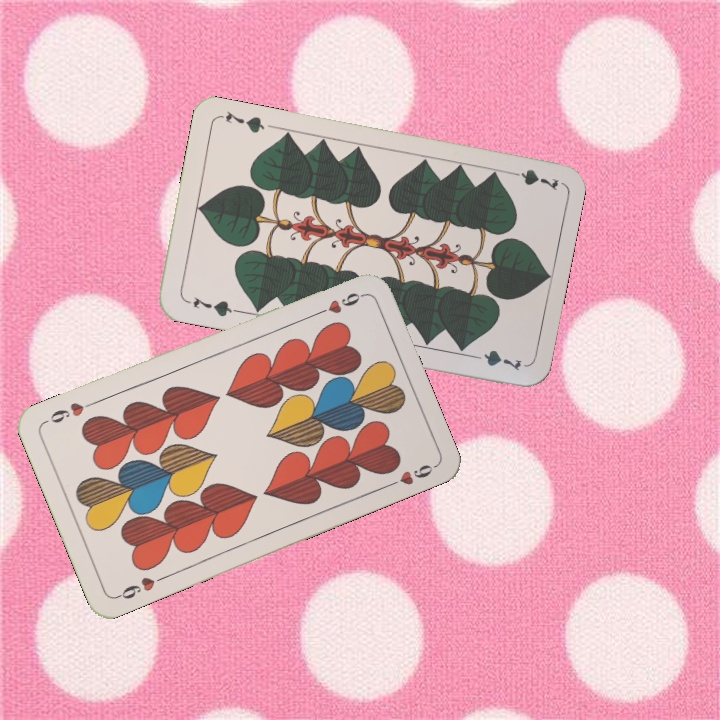G7: (182, 292, 241, 320), (502, 165, 561, 193)
H9: (309, 288, 366, 319), (112, 572, 168, 602)
